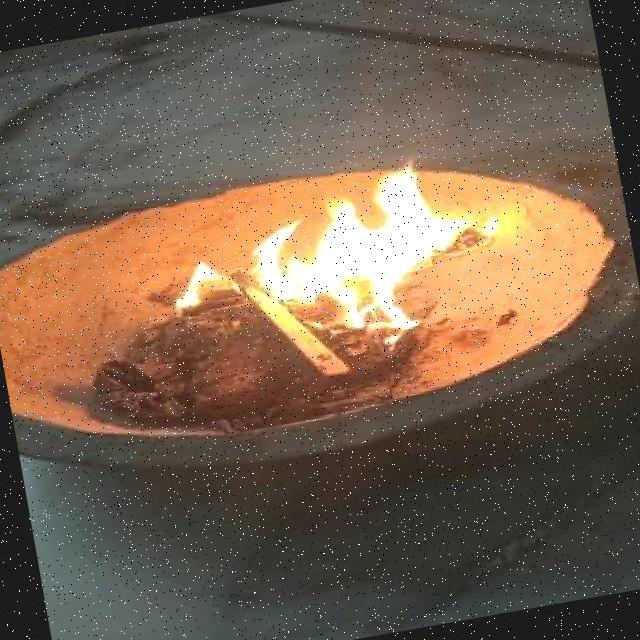Fire: (137, 123, 538, 375)
